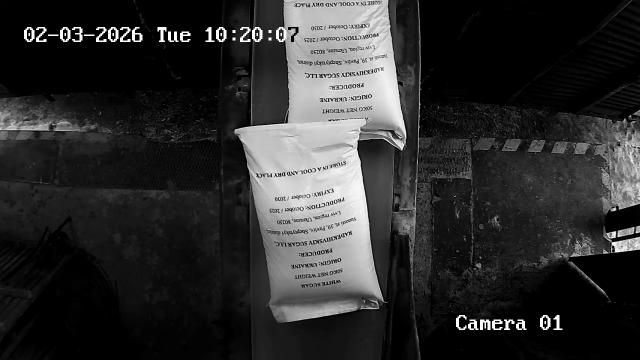bag: (234, 119, 384, 322), (282, 0, 406, 151)
